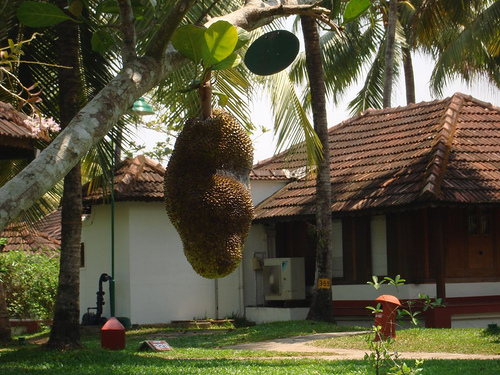jackfruit: (159, 101, 258, 282)
